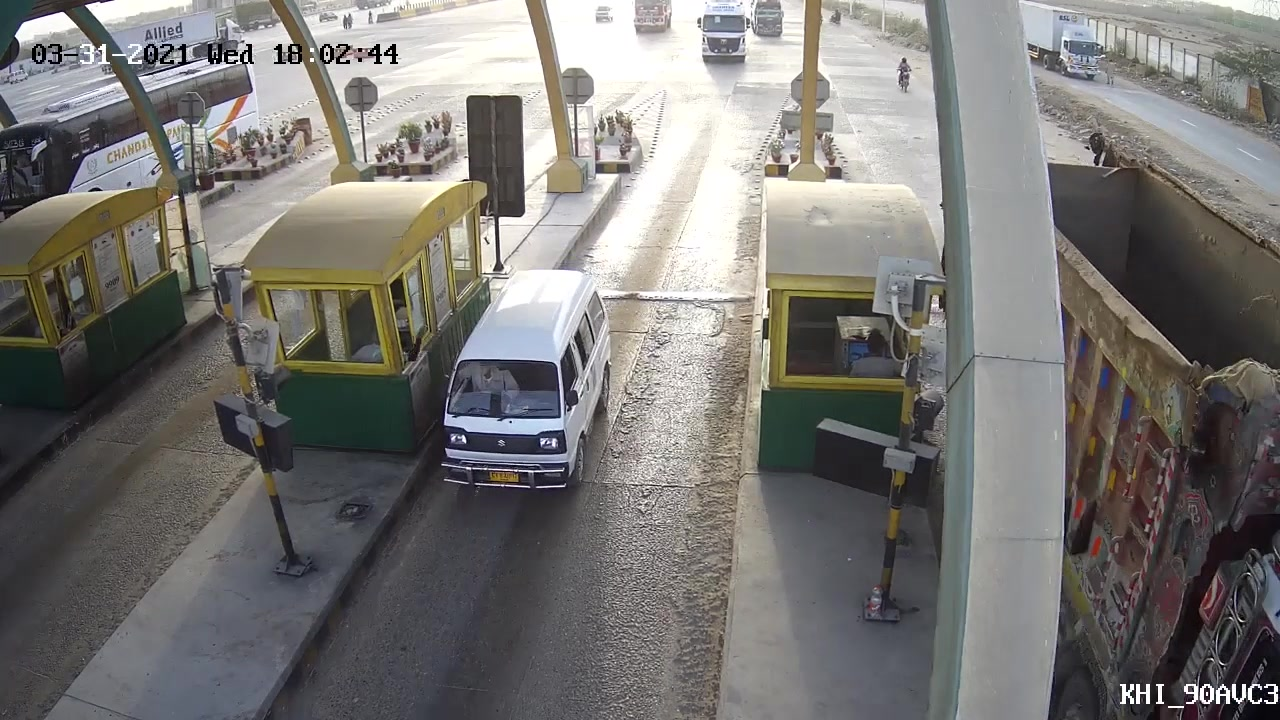F1: (431, 271, 624, 495)
